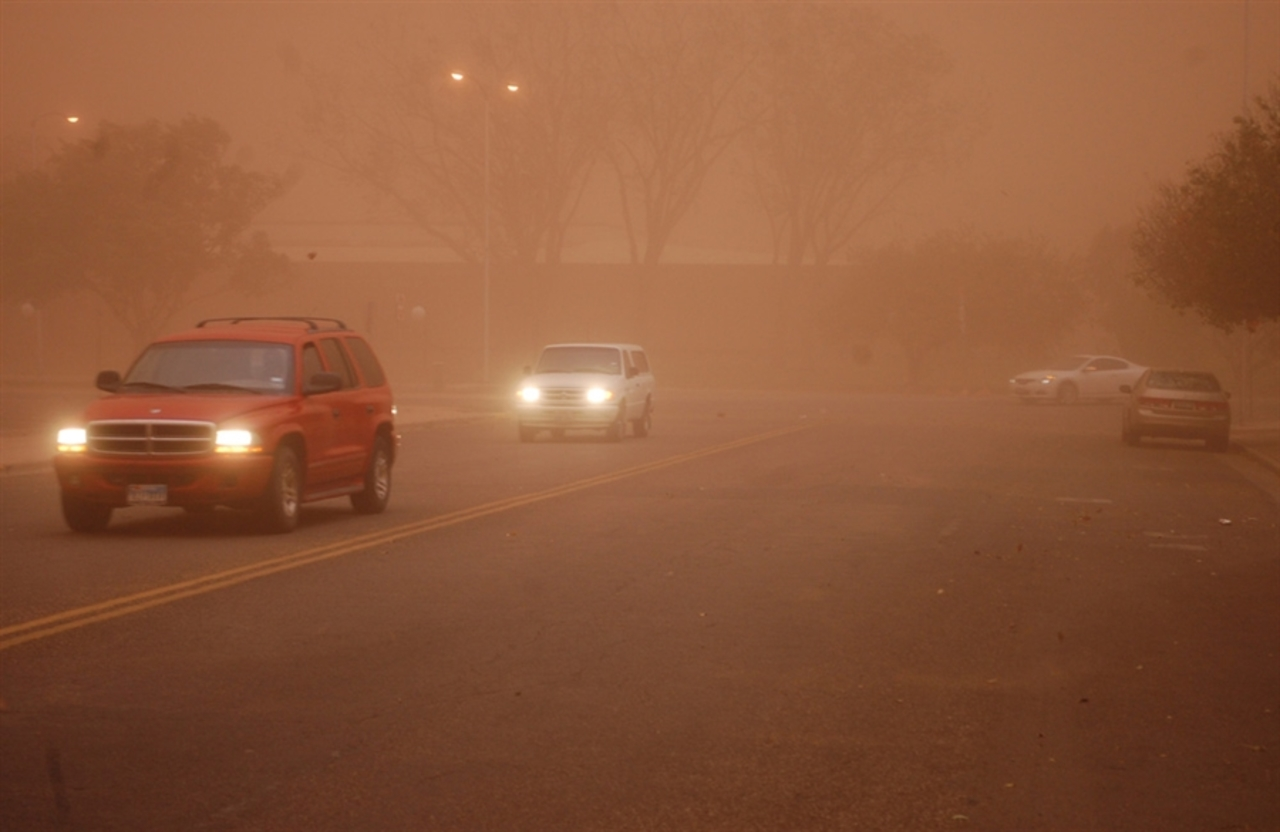car: (44, 318, 409, 538), (513, 341, 659, 442), (1117, 369, 1233, 448), (1008, 355, 1148, 403)
